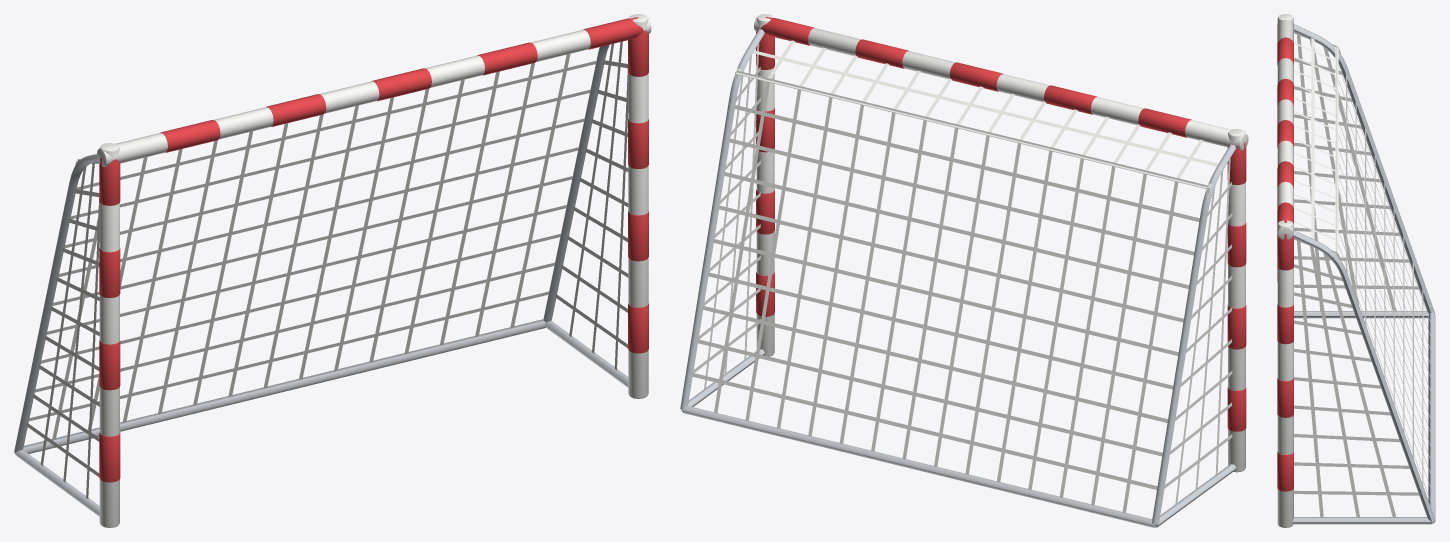
Rendered from trave_gol_futsal.glb.
The picture shows the model from 3 angles, left to right: view 1: azimuth 30°, elevation 25°; view 2: azimuth 150°, elevation 25°; view 3: azimuth 270°, elevation 25°; orthographic projection. The views are drawn at different scales.
Visible parts, largest first — view 1: trave_gol_futsal; view 2: trave_gol_futsal; view 3: trave_gol_futsal.
Boxes of the visible parts, bbox=[...] form: trave_gol_futsal: bbox=[14, 14, 651, 527]; trave_gol_futsal: bbox=[680, 14, 1248, 527]; trave_gol_futsal: bbox=[1277, 14, 1435, 527].
Size of the model in its own units: 3.1 by 2.05 by 0.9745.
Materials: 1 (1 with a texture image).
